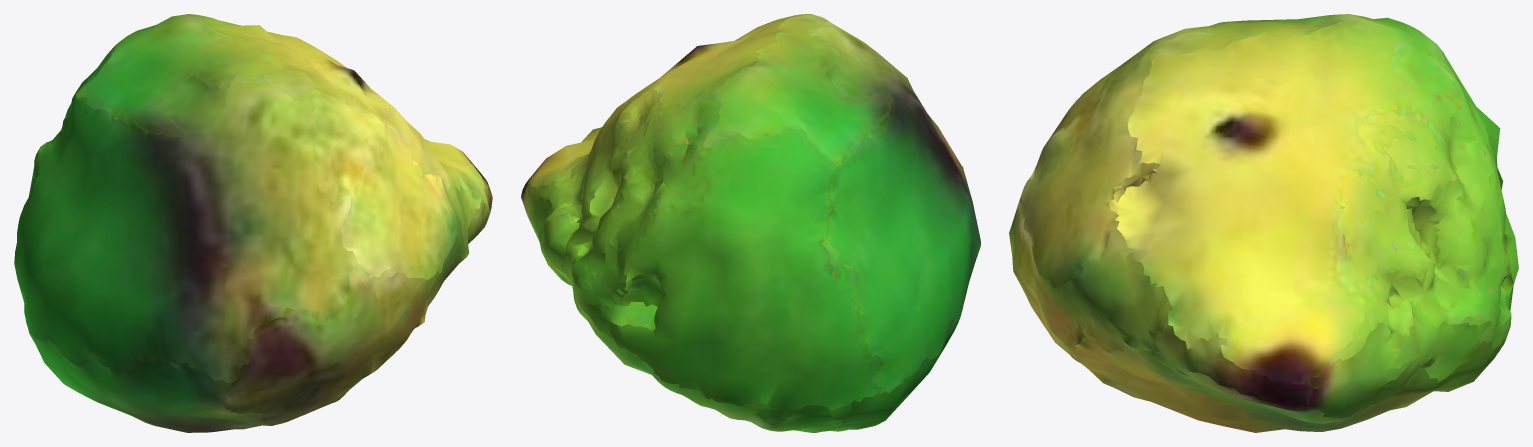
The model's file is 1_pear.glb.
3 views of the same model, side by side, from view 1: azimuth 30°, elevation 25°; view 2: azimuth 150°, elevation 25°; view 3: azimuth 270°, elevation 25° (orthographic). The views are drawn at different scales.
Parts seen in each view (by area): view 1: 1_pear; view 2: 1_pear; view 3: 1_pear.
Boxes of the visible parts, x1,y1,x2,y2 form: 1_pear: [14, 14, 492, 432]; 1_pear: [521, 14, 980, 432]; 1_pear: [1009, 14, 1518, 432].
Size of the model in its own units: 0.1369 by 0.1127 by 0.1275.
1 material, 1 textured.
